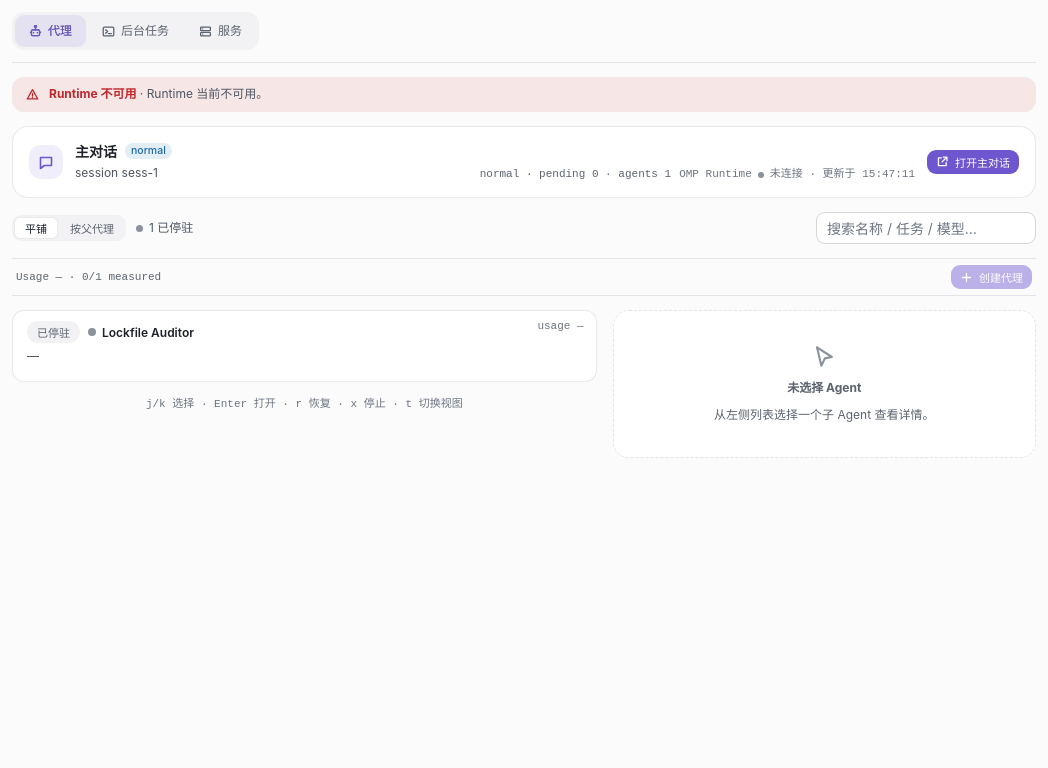
Test case: AgentHubPage real-mode projection › keeps write actions disabled without an injected Studio client
This screenshot has width=1048, height=768.
Step 1. Click the option "已停驻 Lockfile Auditor — usage —" → point(54, 332), box [12,310,597,382]
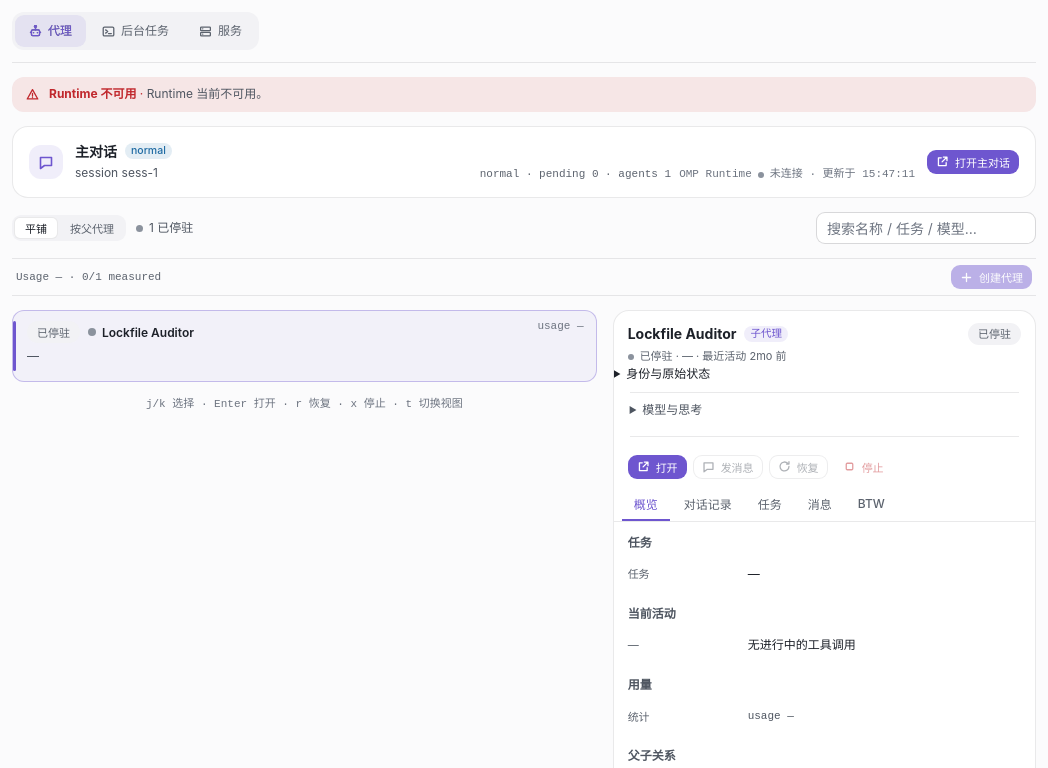
Check: the button "恢复" is disabled, box [769,455,828,479]
